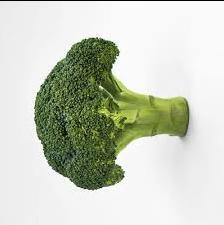broccoli: (33, 36, 189, 190)
